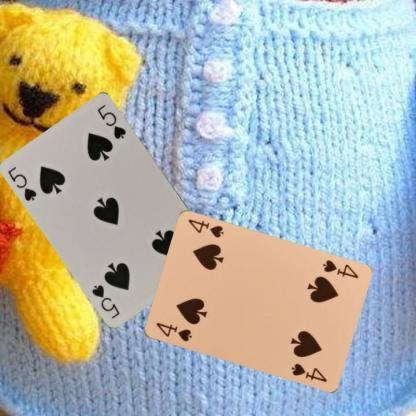4s: (153, 320, 193, 343), (320, 257, 360, 280)
5s: (5, 164, 38, 202)
